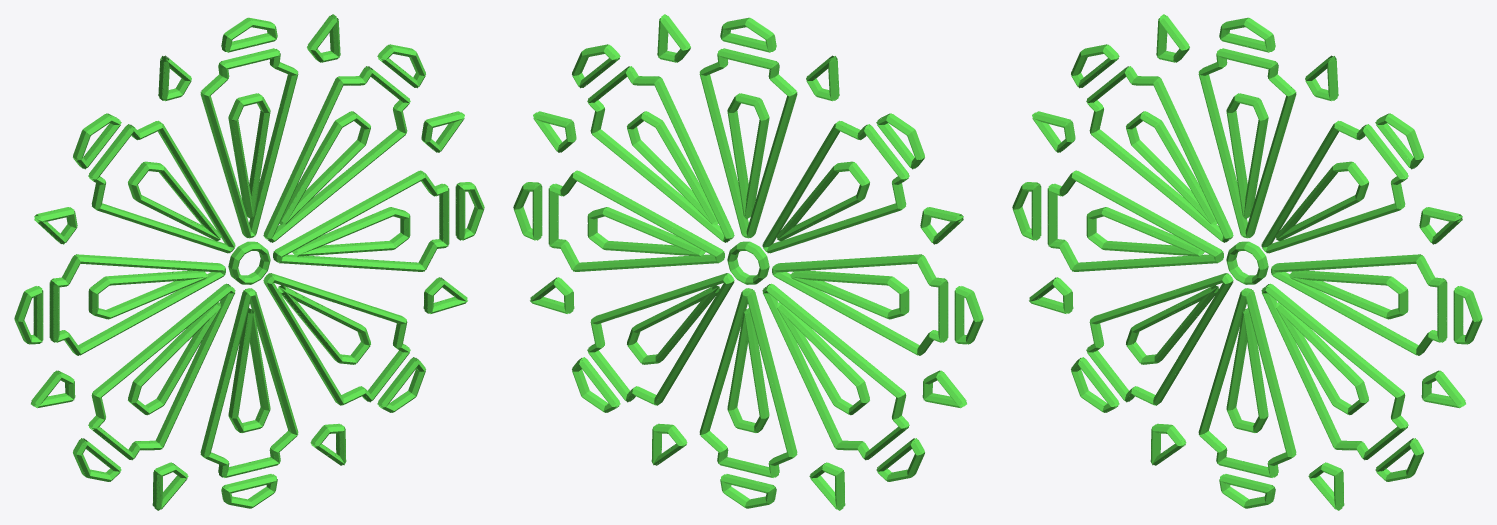
Rendered from rosacea0.glb.
3 renders of one model, left to right at view 1: azimuth 30°, elevation 25°; view 2: azimuth 150°, elevation 25°; view 3: azimuth 330°, elevation 25°, orthographic.
Parts seen in each view (by area): view 1: root; view 2: root; view 3: root.
Part boxes in pixels (x1,y1,x2,y2): root: [14, 14, 484, 510]; root: [513, 14, 983, 510]; root: [1012, 14, 1482, 510].
Size of the model in its own units: 1.01 by 1.01 by 0.0271.
